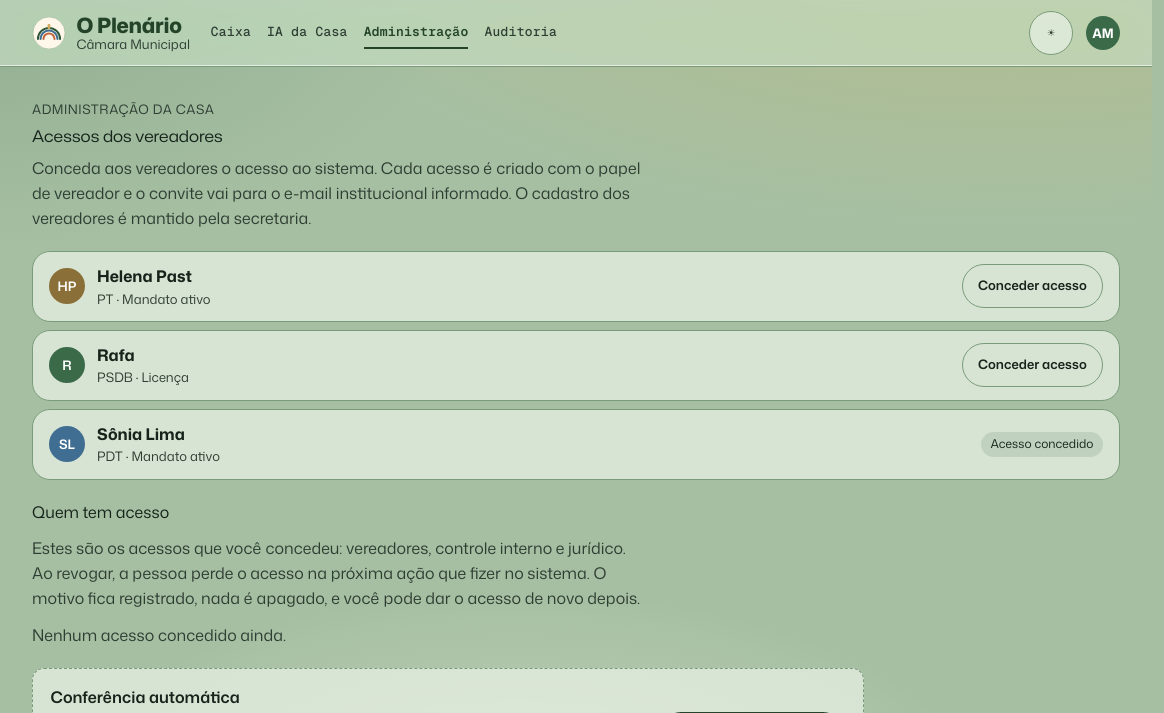
Test: Área do administrador da Casa (/administracao) › Conceder acesso a quem já entrou: avisa que o convite foi para o e-mail da conta e que só a pessoa o troca
This screenshot has width=1164, height=713.
Click the button with aria-label "Conceder acesso a Helena Past". click: {"x": 1032, "y": 286}
box: [962, 264, 1103, 308]
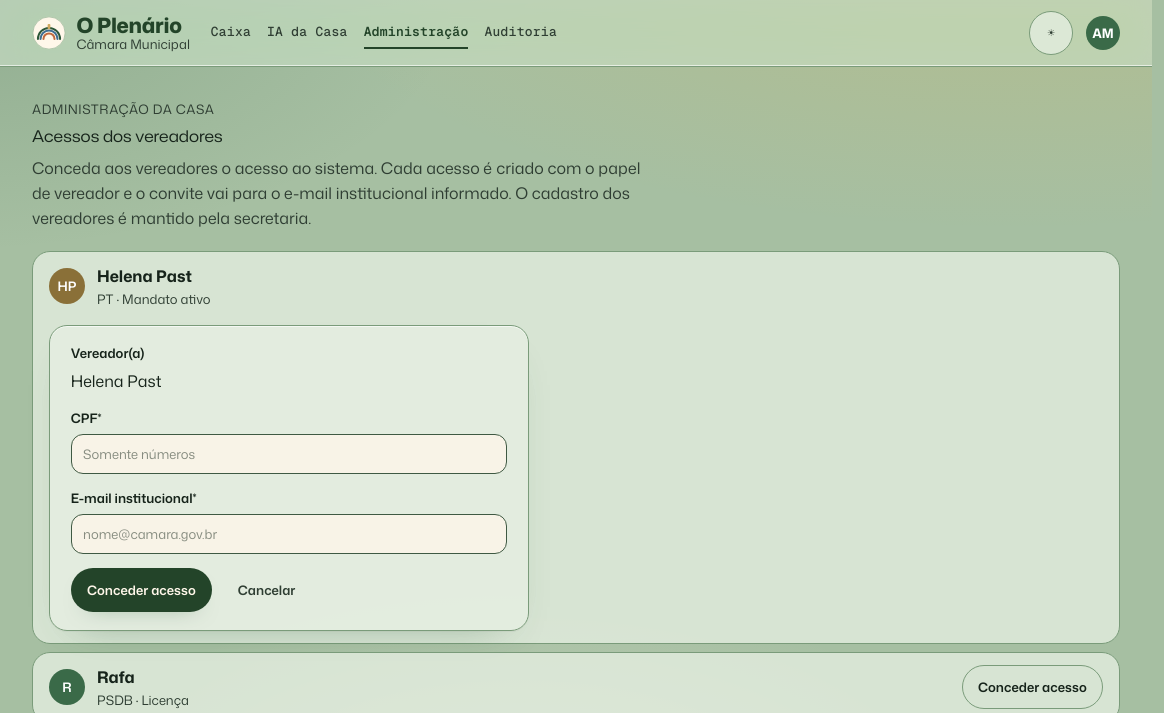
Type "529.982.247-25" into the field labelled "CPF*". click: {"x": 289, "y": 454}
box: [71, 434, 507, 474]
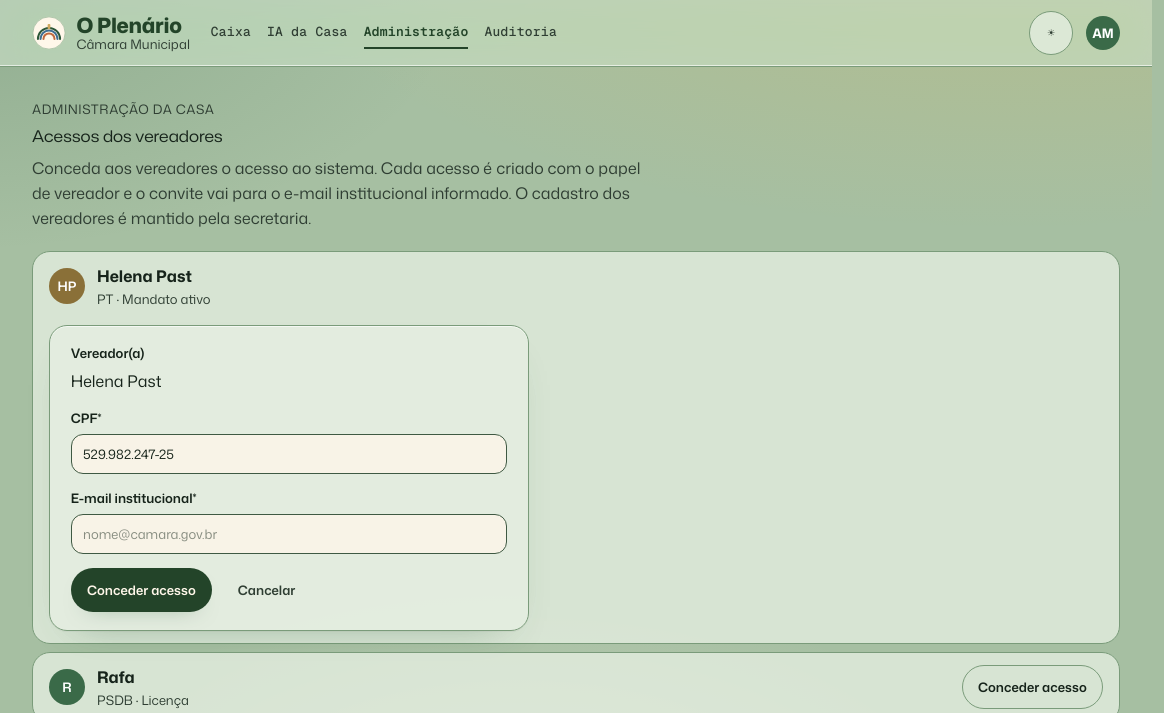
Type "helena@camara.local" into the field labelled "E-mail institucional*". click: {"x": 289, "y": 534}
box: [71, 514, 507, 554]
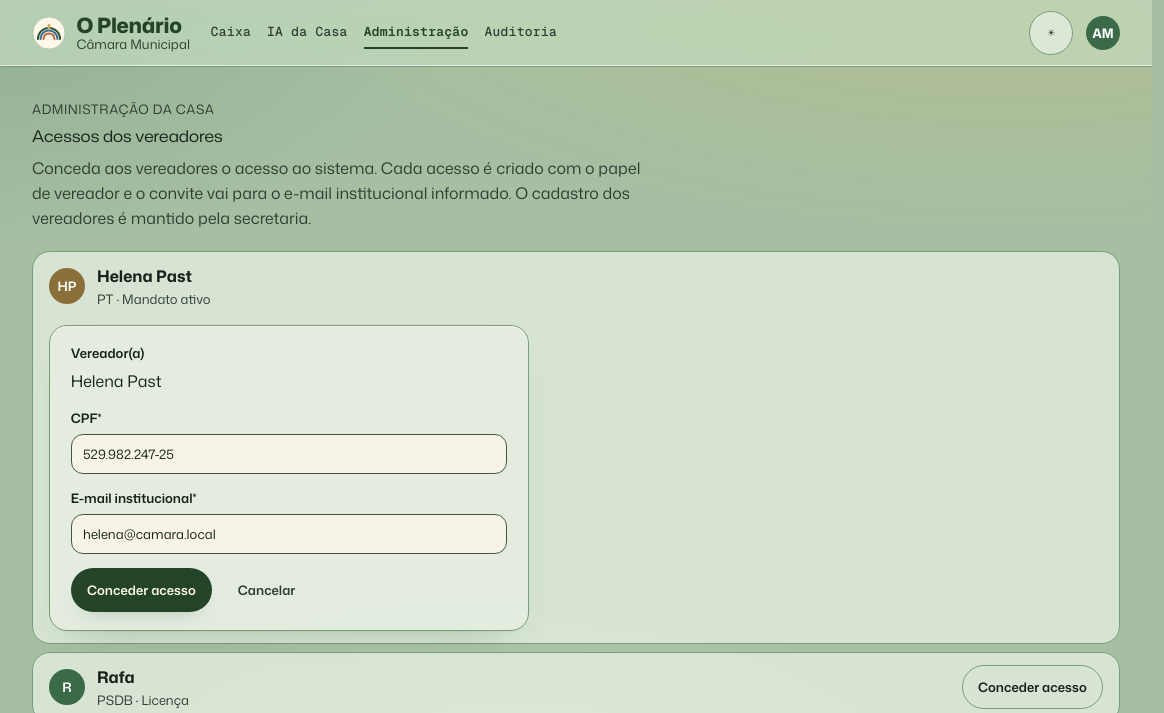
Submit the form "Conceder acesso", box [49, 325, 529, 631]
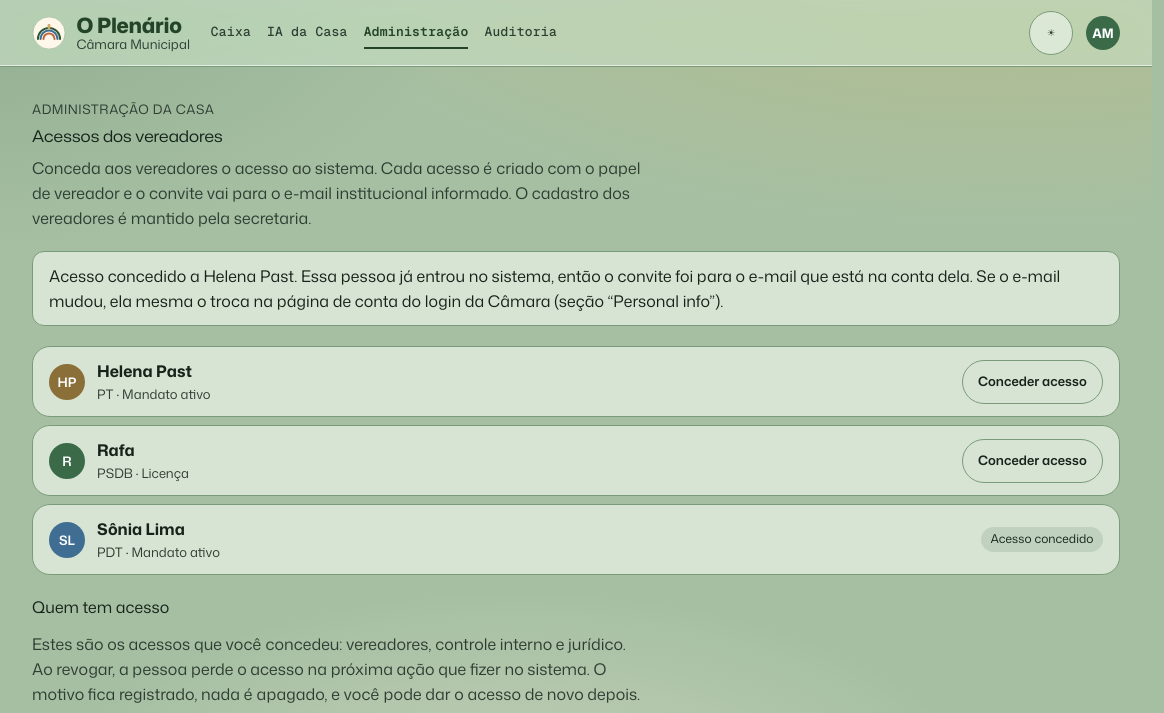
Now the message shows "Essa pessoa já entrou no sistema", box [49, 265, 1060, 312]
Now the message shows "ela mesma o troca", box [49, 265, 1060, 312]
